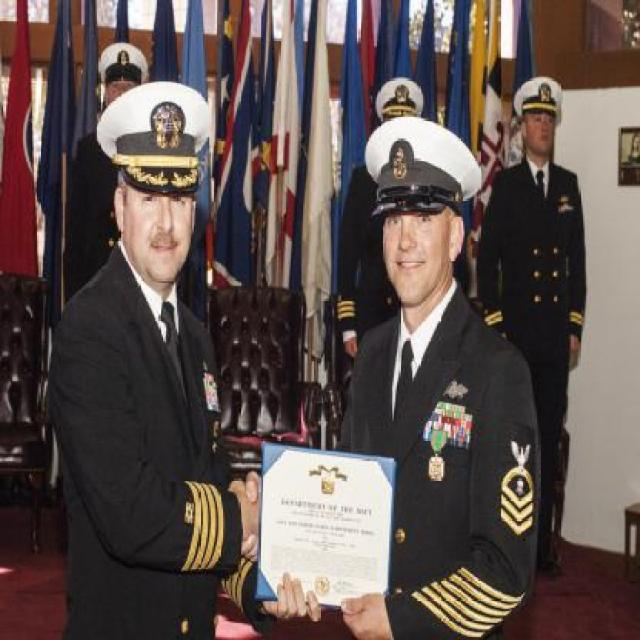Person: (52, 36, 590, 638)
